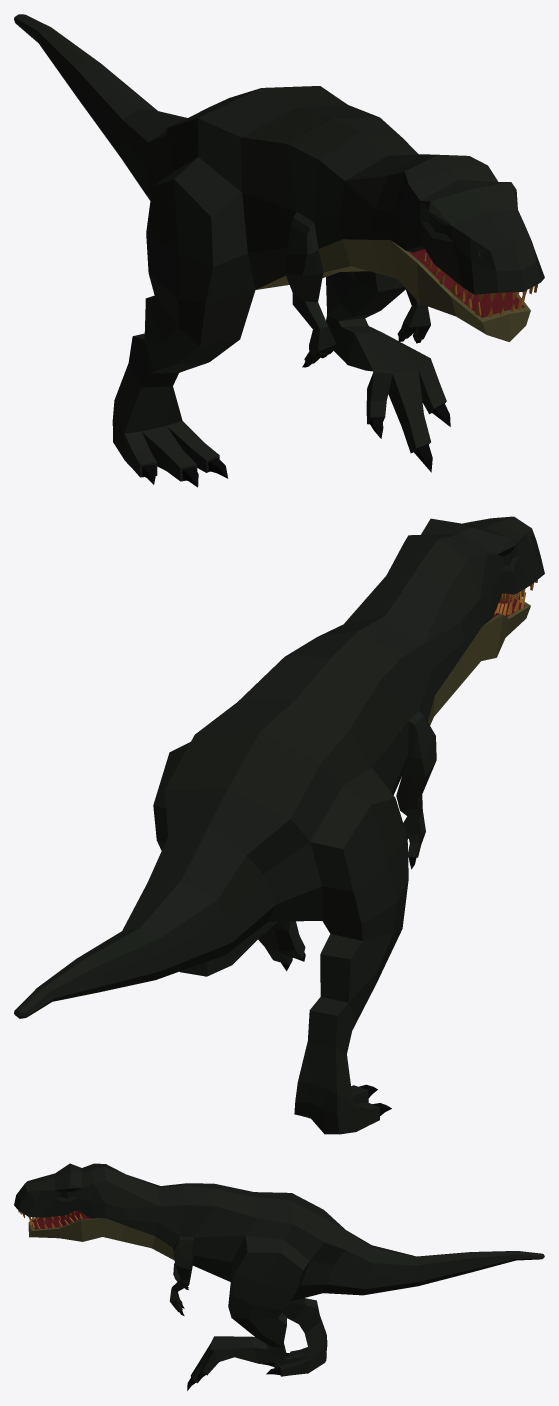
File: Trex_000028.obj
The picture shows the model from 3 angles, top to bottom: view 1: azimuth 30°, elevation 25°; view 2: azimuth 150°, elevation 25°; view 3: azimuth 270°, elevation 25°; orthographic projection. The views are drawn at different scales.
Visible parts, largest first — view 1: Trex_Cylinder; view 2: Trex_Cylinder; view 3: Trex_Cylinder.
Part boxes in pixels (x1,y1,x2,y2): Trex_Cylinder: [14, 14, 544, 487]; Trex_Cylinder: [14, 516, 544, 1134]; Trex_Cylinder: [14, 1163, 544, 1390].
Bounding box in the file's own units: 8.01 × 14.51 × 31.42.
